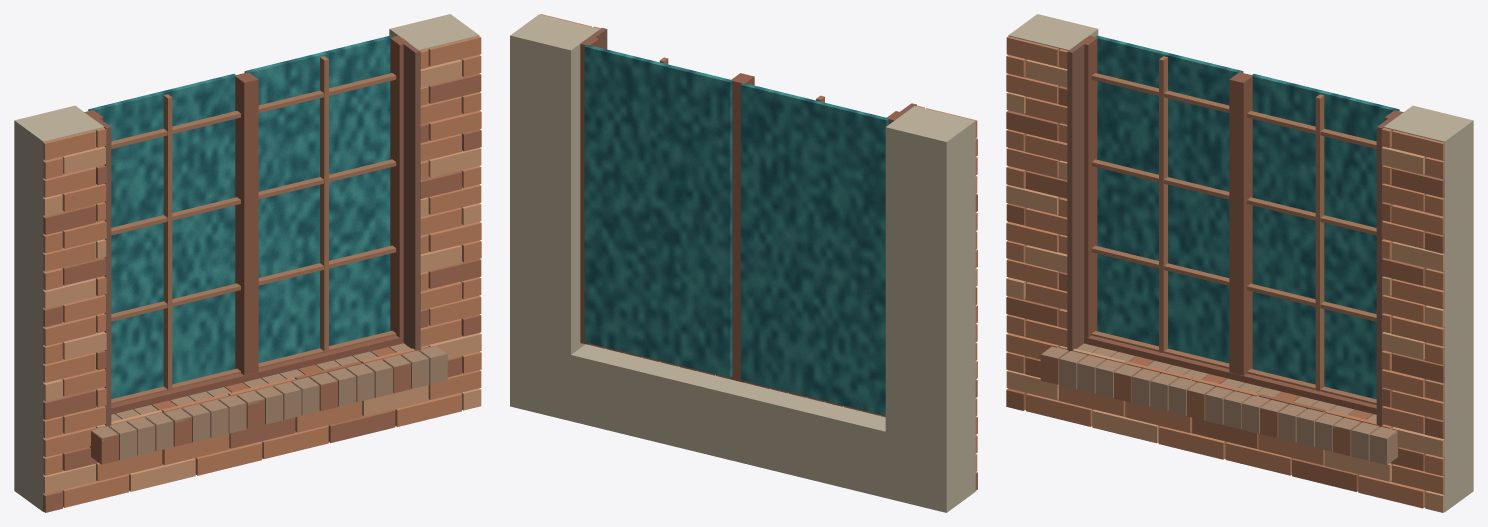
Rendered from xiangde-lane25-brick-sill-paired-sashes-near.glb.
3 renders of one model, left to right at view 1: azimuth 30°, elevation 25°; view 2: azimuth 150°, elevation 25°; view 3: azimuth 330°, elevation 25°, orthographic.
Visible parts, largest first — view 1: 祥德路25弄住宅临院双扇格窗与竖砖窗台; view 2: 祥德路25弄住宅临院双扇格窗与竖砖窗台; view 3: 祥德路25弄住宅临院双扇格窗与竖砖窗台.
Boxes of the visible parts, x1,y1,x2,y2 form: 祥德路25弄住宅临院双扇格窗与竖砖窗台: [14, 14, 481, 512]; 祥德路25弄住宅临院双扇格窗与竖砖窗台: [510, 14, 977, 512]; 祥德路25弄住宅临院双扇格窗与竖砖窗台: [1006, 14, 1473, 512].
Size of the model in its own units: 2.34 by 1.9 by 0.39.
9 materials, 1 textured.
